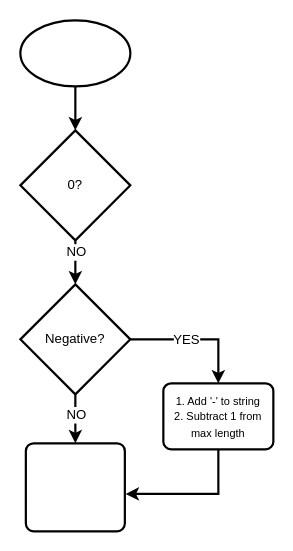
This 293x551 diagram has some shape labels left out. Each missing label, with the centre of its shape:
"1. Calculate the absolute value of input 2. Get log10" goes at (74,487).
"Input" goes at (75,53).
